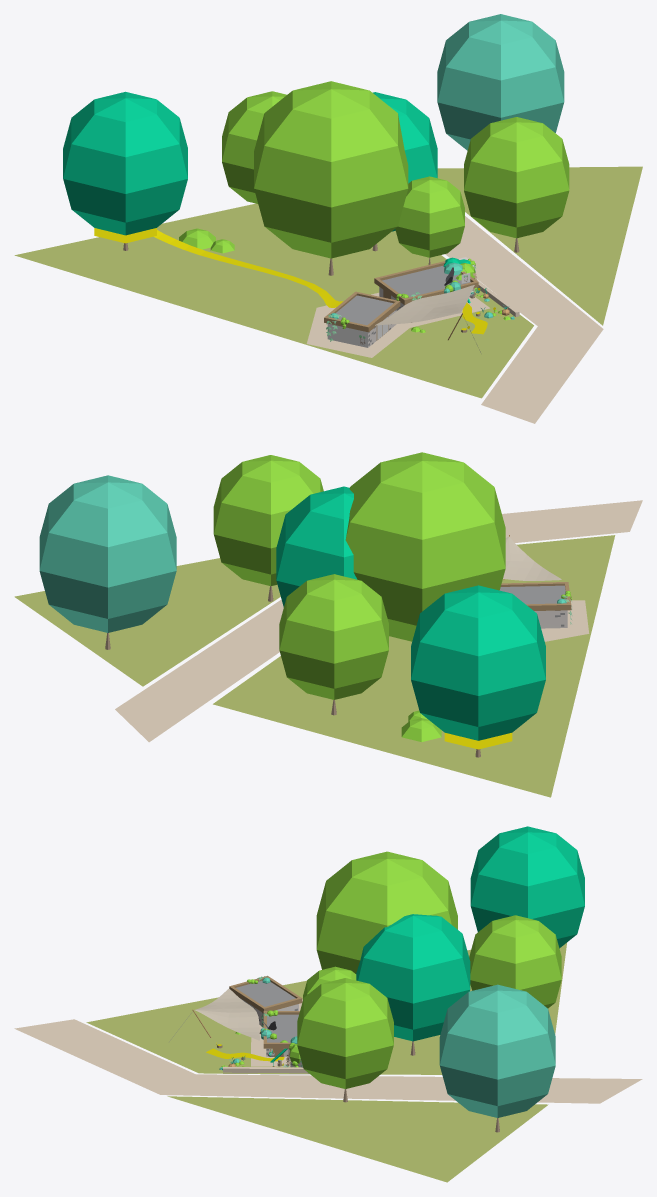
3 views of the same model, one above another, from view 1: azimuth 30°, elevation 25°; view 2: azimuth 150°, elevation 25°; view 3: azimuth 270°, elevation 25° (orthographic). The views are drawn at different scales.
Visible parts, largest first — view 1: Empty_Mesh; view 2: Empty_Mesh; view 3: Empty_Mesh.
Part boxes in pixels (x1,y1,x2,y2): Empty_Mesh: [14, 14, 642, 423]; Empty_Mesh: [14, 452, 642, 797]; Empty_Mesh: [14, 826, 642, 1182].
Bounding box in the file's own units: 2389 × 2526 × 777.
